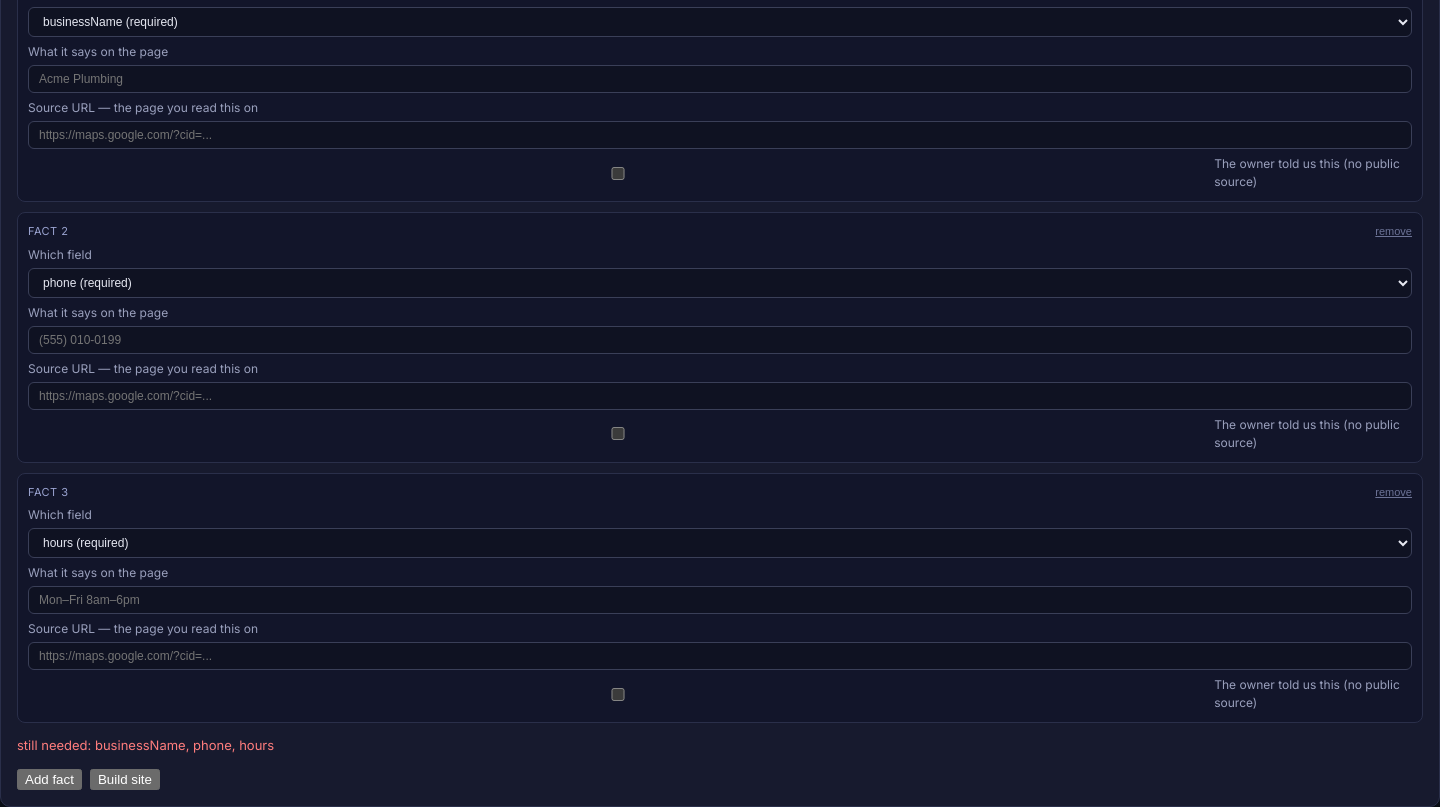
Scenario: site builder › refuses without a profile url
This screenshot has width=1440, height=807.
(page scrolled)
Click the button with test id "build-site": coordinates (125, 779) [90,768,160,790]
(page scrolled)
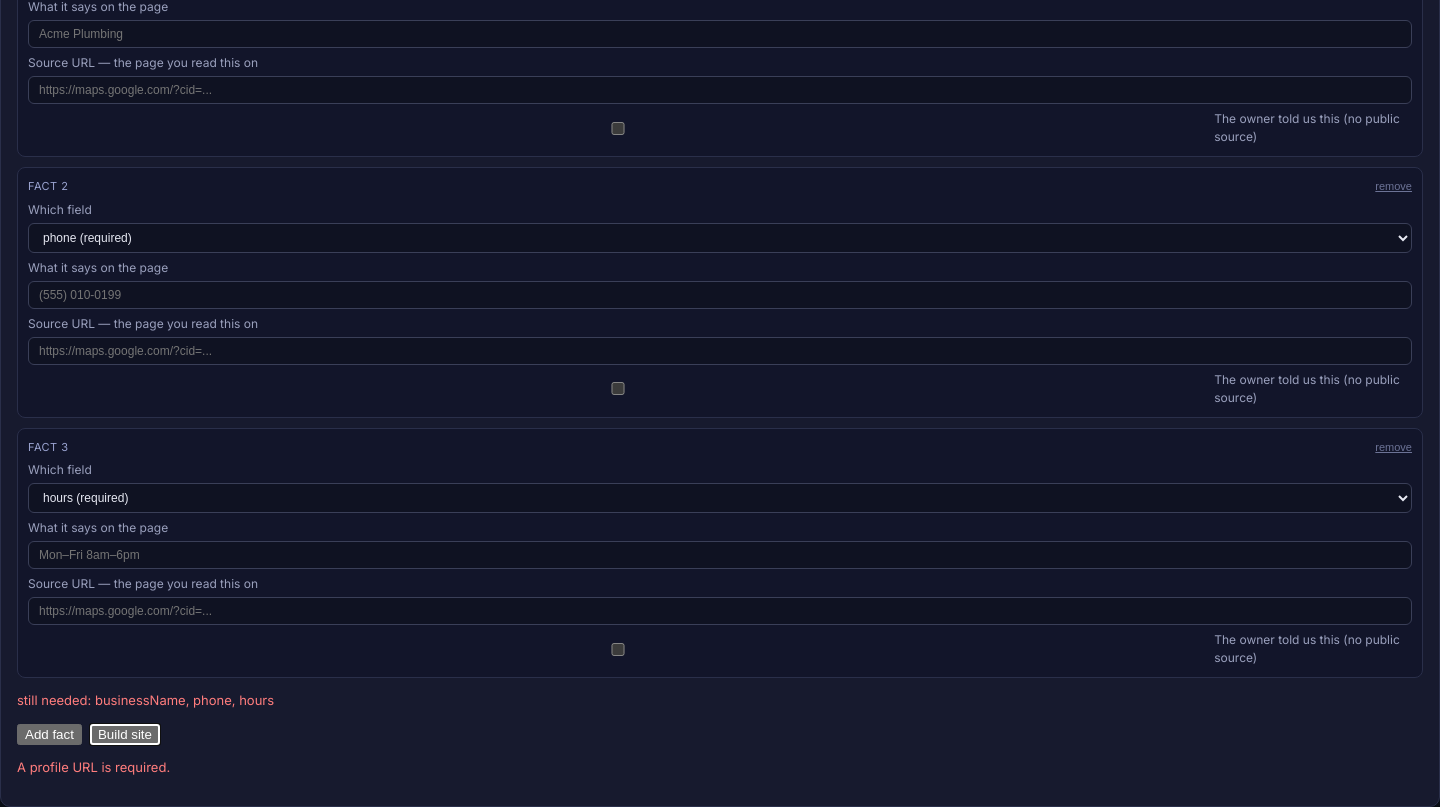
Result: the message shows "profile URL is required" at [17,758,170,774]
